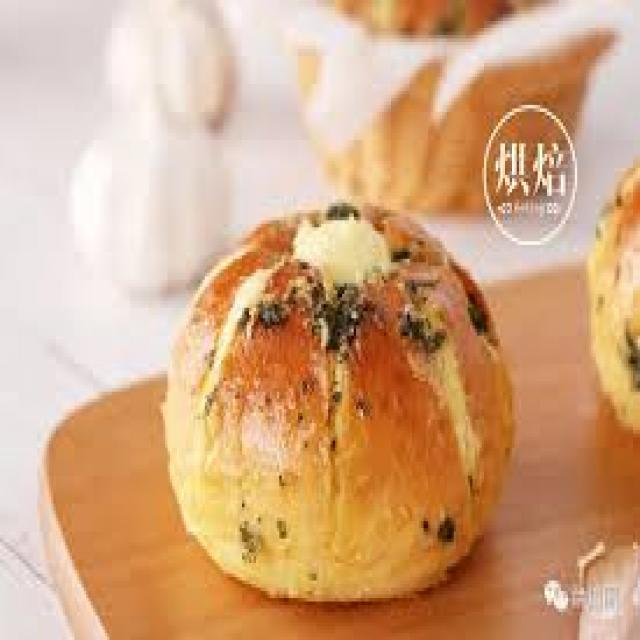organic waste: (158, 196, 522, 601), (584, 140, 638, 430)
